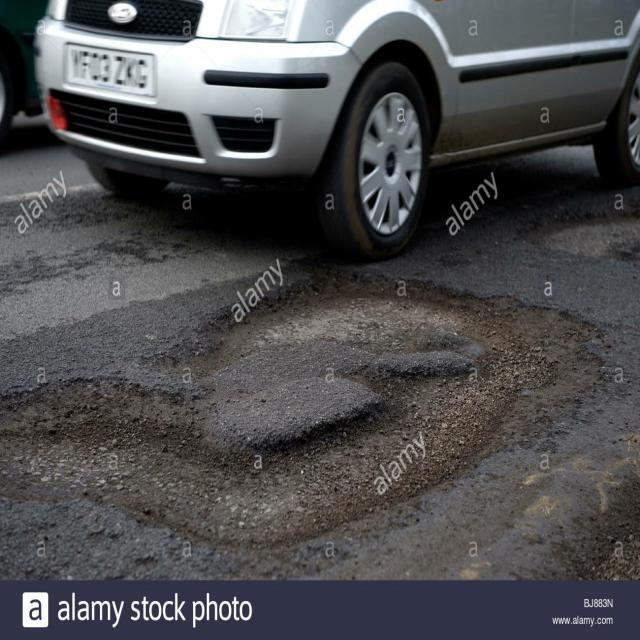Pothole: (1, 249, 621, 548)
